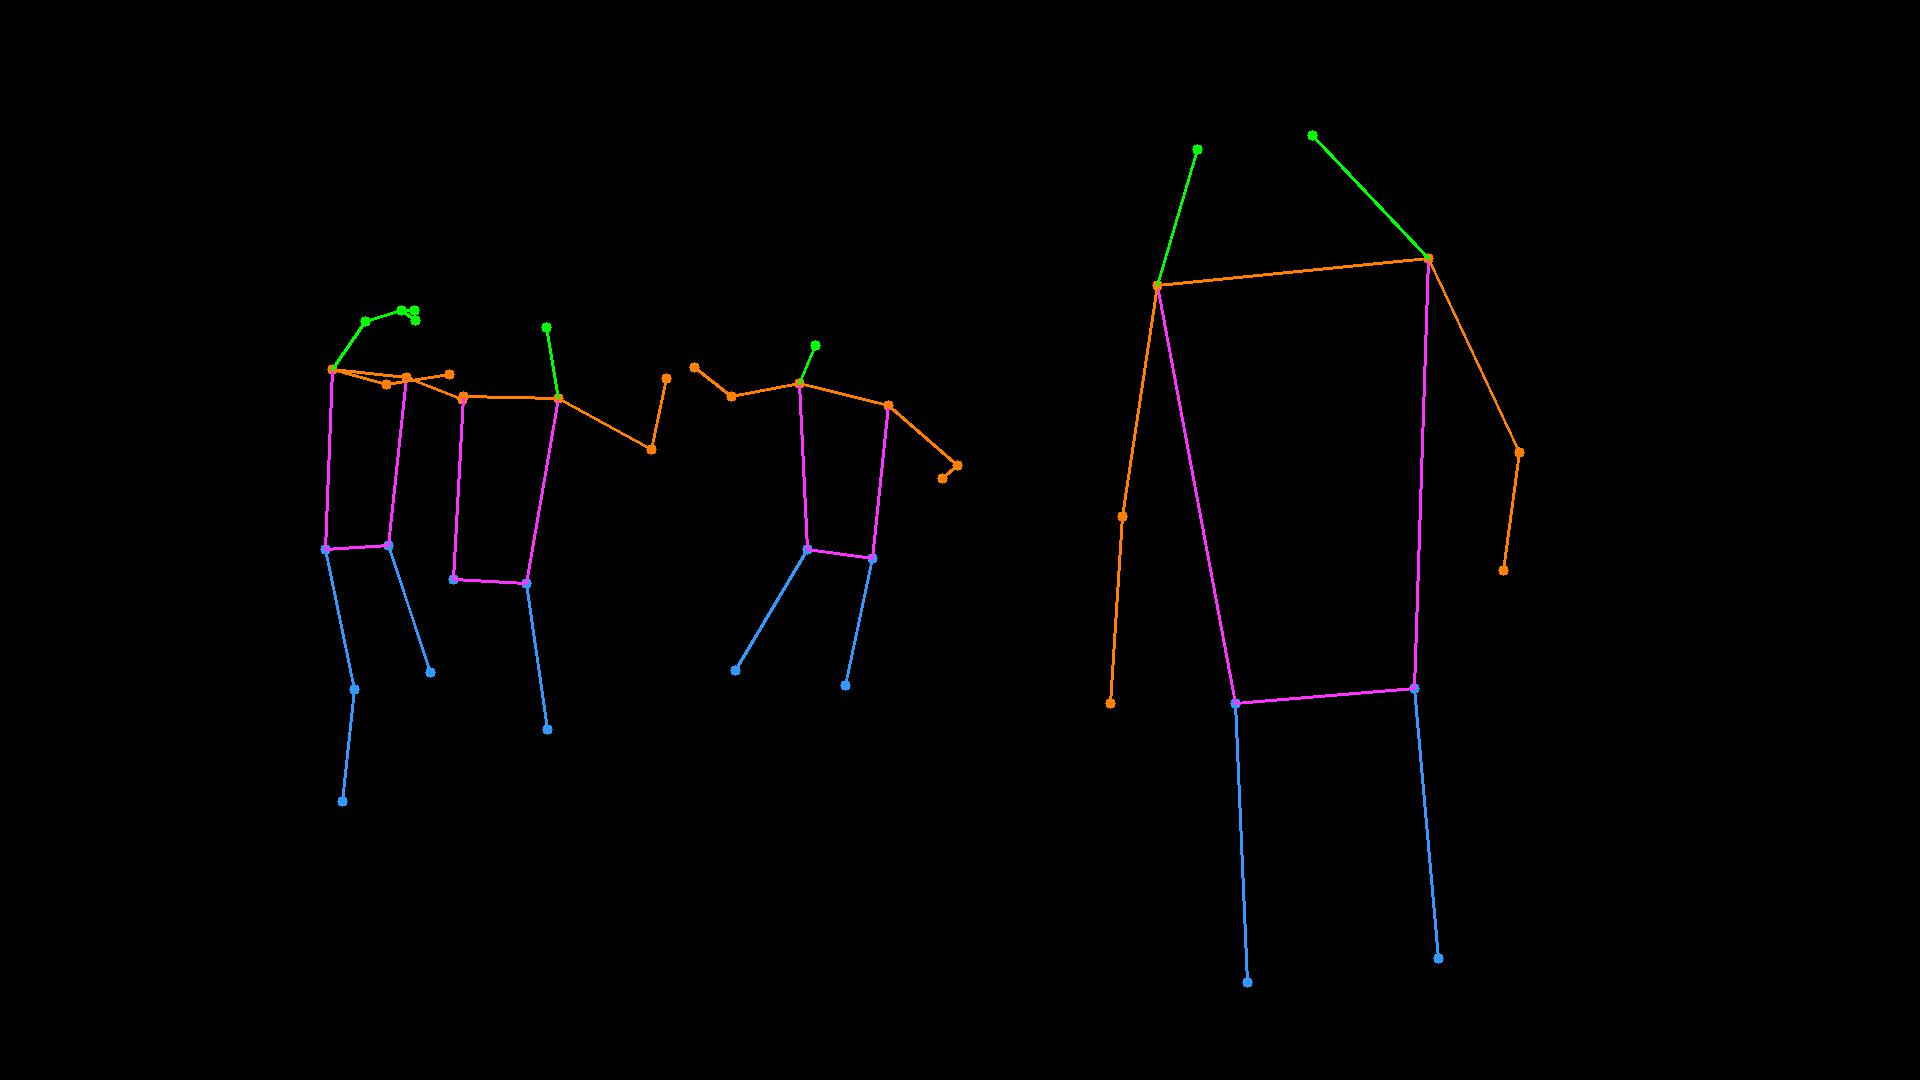normal: (1054, 29, 1551, 1079), (268, 287, 477, 845)
